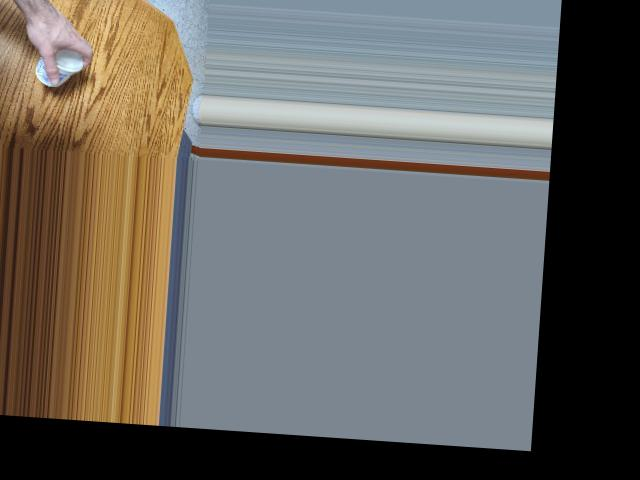cotage: (38, 44, 94, 91)
